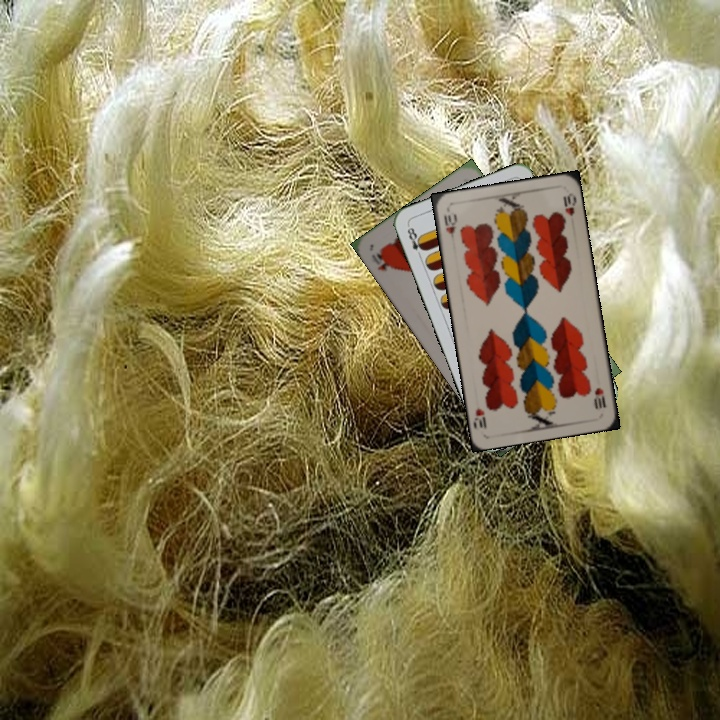E8: (403, 221, 428, 261)
H10: (440, 210, 459, 247), (590, 384, 608, 412)
HO: (367, 246, 395, 274)
